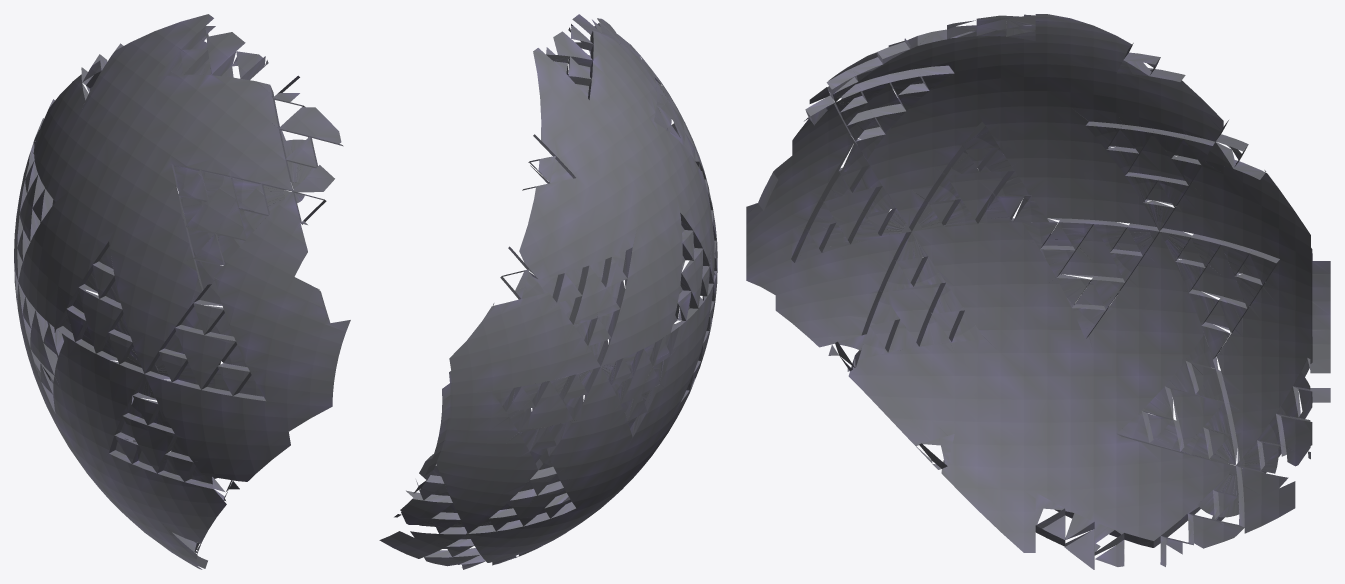
The picture shows the model from 3 angles, left to right: view 1: azimuth 30°, elevation 25°; view 2: azimuth 150°, elevation 25°; view 3: azimuth 270°, elevation 25°; orthographic projection. The views are drawn at different scales.
Bounding box in the file's own units: 0.3171 × 0.8292 × 0.7915.
